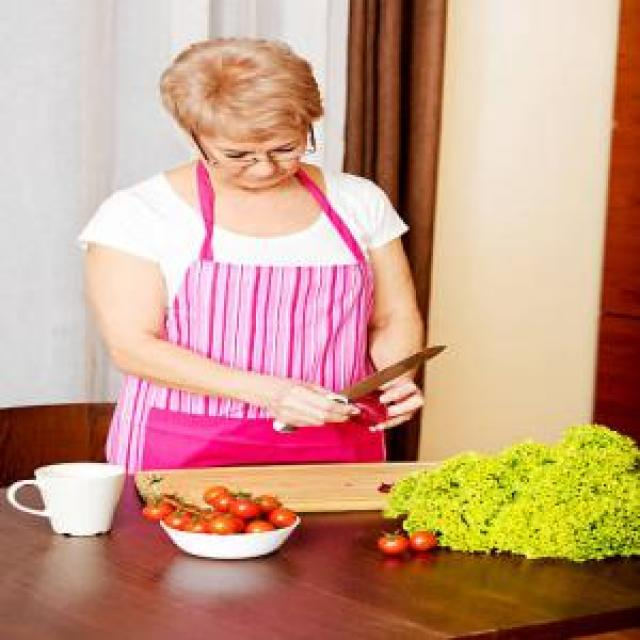knife: (237, 343, 449, 442)
